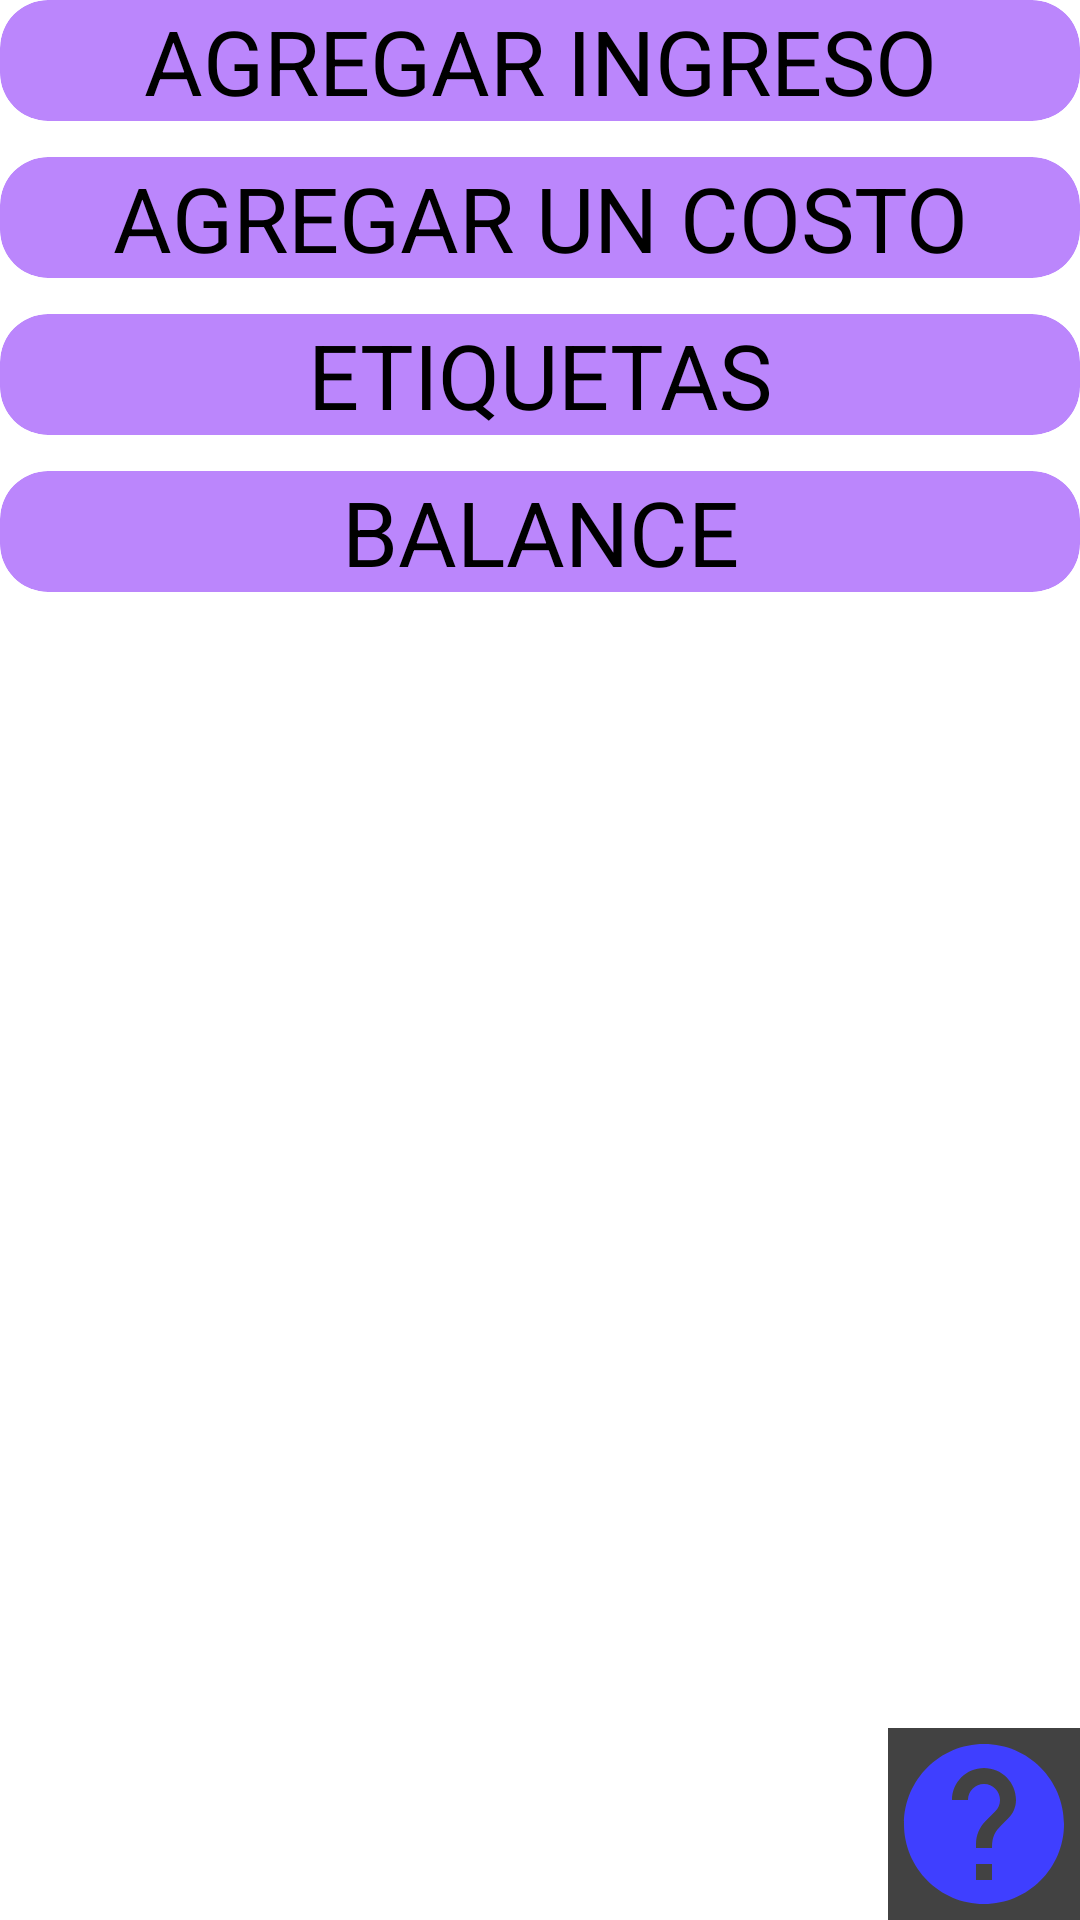

Screen size 1080*1920. Icon name, then its center in pixels as (x=x, y=y):
help: (x=984, y=1824)
